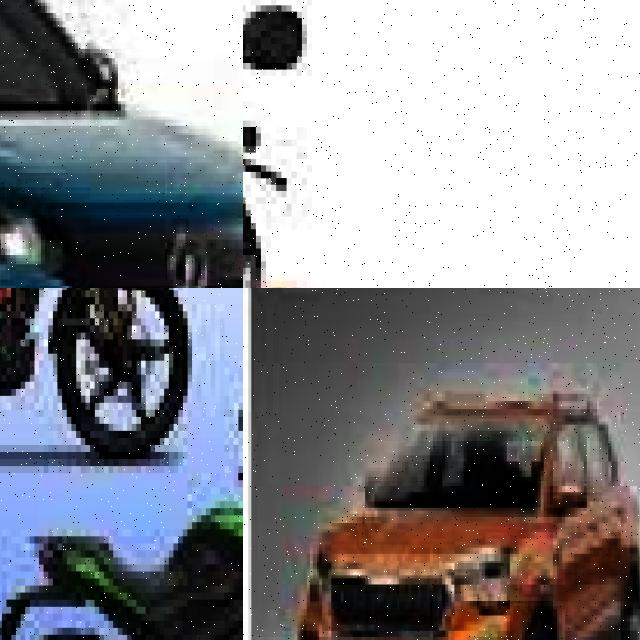bike: (0, 445, 243, 640), (243, 0, 389, 288), (0, 288, 196, 466)
car: (293, 362, 640, 640), (0, 0, 243, 288)
